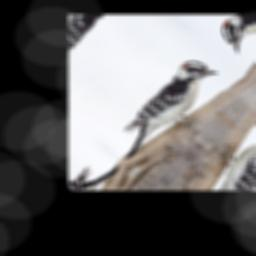Woodpecker: (103, 50, 241, 182)
